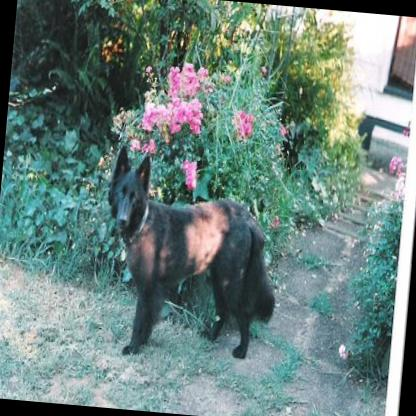groenendael: (92, 141, 288, 370)
